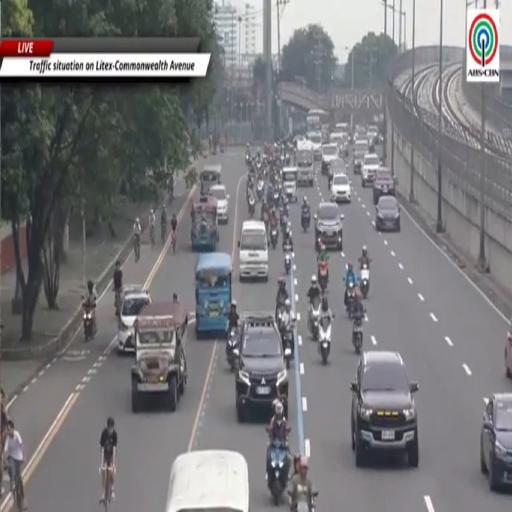bus: (307, 109, 328, 132)
car: (351, 351, 418, 467), (235, 312, 288, 422), (480, 393, 511, 490), (117, 285, 151, 355), (314, 202, 344, 250), (375, 196, 400, 232), (373, 168, 395, 204), (209, 185, 229, 223), (361, 154, 380, 187), (331, 173, 351, 202), (353, 137, 369, 173), (328, 158, 347, 188), (322, 143, 339, 174), (505, 317, 511, 377), (367, 125, 378, 145), (354, 125, 366, 141)
jeepney: (132, 302, 188, 412), (166, 451, 249, 511), (195, 252, 232, 334), (191, 196, 218, 251), (295, 140, 314, 186), (200, 165, 221, 195), (282, 167, 297, 201)
motorcycle: (268, 440, 288, 505), (318, 317, 332, 364), (290, 491, 318, 511), (282, 323, 293, 369), (226, 329, 238, 371), (310, 297, 321, 341), (83, 307, 95, 342), (352, 317, 362, 355), (346, 281, 355, 318), (360, 263, 369, 298), (318, 262, 328, 293), (276, 300, 284, 331), (256, 177, 264, 202), (301, 210, 310, 232), (248, 195, 256, 219), (270, 226, 278, 249), (114, 290, 121, 316), (285, 247, 291, 274), (280, 212, 287, 234), (273, 191, 279, 207), (285, 152, 291, 166), (256, 162, 262, 172), (246, 153, 250, 165)
